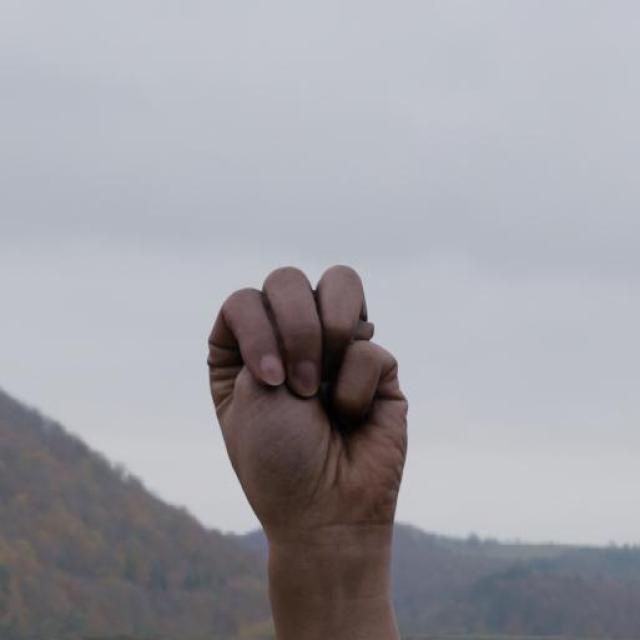M: (206, 263, 413, 527)
